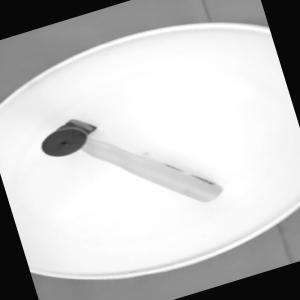martelo: (35, 81, 228, 244)
